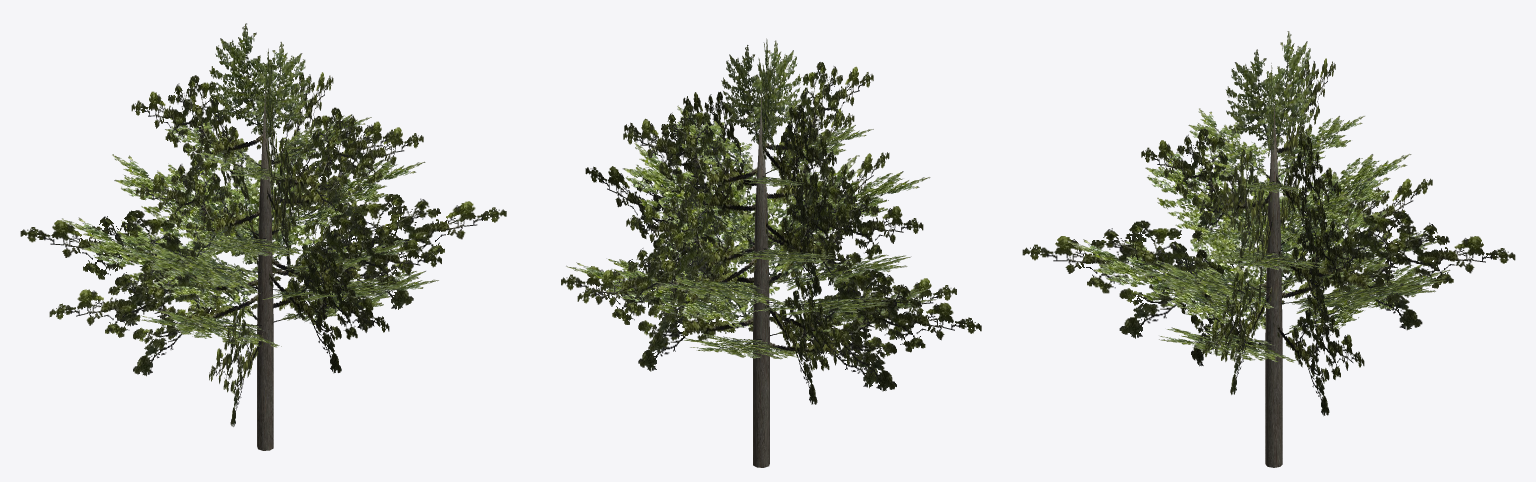
3 views of the same model, side by side, from view 1: azimuth 30°, elevation 25°; view 2: azimuth 150°, elevation 25°; view 3: azimuth 270°, elevation 25° (orthographic). The views are drawn at different scales.
Visible parts, largest first — view 1: Cube.019, Cube.020, Cube.012, Cylinder.001, Cube.021, Cube.010, Cube.014, Cube.017, Cube.002, Cube.047, Cube.027, Cube.011 (+22 smaller); view 2: Cube.019, Cube.006, Cylinder.001, Cube.015, Cube.009, Cube.018, Cube.008, Cube.010, Cube.017, Cube.013, Cube.032, Cube.003 (+22 smaller); view 3: Cube.006, Cube.002, Cylinder.001, Cube.016, Cube.026, Cube.031, Cube.033, Cube.008, Cube.049, Cube.047, Cube.018, Cube.020 (+17 smaller).
Part boxes in pixels (x1,y1,x2,y2): Cube.019: (49, 258, 258, 376); Cube.020: (272, 194, 506, 309); Cube.012: (271, 213, 441, 330); Cylinder.001: (257, 89, 273, 450); Cube.021: (270, 107, 398, 219); Cube.010: (20, 210, 257, 326); Cube.014: (131, 75, 262, 191); Cube.017: (136, 154, 259, 270); Cube.002: (269, 250, 389, 373); Cube.047: (209, 23, 286, 135); Cube.027: (61, 217, 258, 309); Cube.011: (271, 120, 423, 233); Cube.019: (768, 270, 981, 391); Cube.006: (577, 229, 756, 352); Cylinder.001: (753, 91, 769, 467); Cube.015: (623, 104, 757, 223); Cube.009: (767, 181, 923, 297); Cube.018: (626, 185, 754, 299); Cube.008: (561, 252, 753, 371); Cube.010: (764, 276, 852, 404); Cube.017: (766, 176, 859, 296); Cube.013: (764, 62, 873, 180); Cube.032: (622, 142, 754, 244); Cube.003: (770, 269, 956, 388); Cube.006: (1280, 211, 1515, 330); Cube.002: (1022, 220, 1266, 338); Cylinder.001: (1265, 100, 1282, 467); Cube.016: (1141, 128, 1268, 245); Cube.026: (1067, 239, 1266, 324); Cube.031: (1279, 153, 1411, 245); Cube.033: (1145, 148, 1266, 248); Cube.008: (1277, 294, 1364, 415); Cube.049: (1225, 49, 1292, 152); Cube.047: (1258, 31, 1315, 148); Cube.018: (1278, 209, 1364, 324); Cube.020: (1203, 268, 1271, 394).
Bounding box in the file's own units: 22.18 × 20.96 × 22.2.
Materials: 3 (3 with a texture image).
